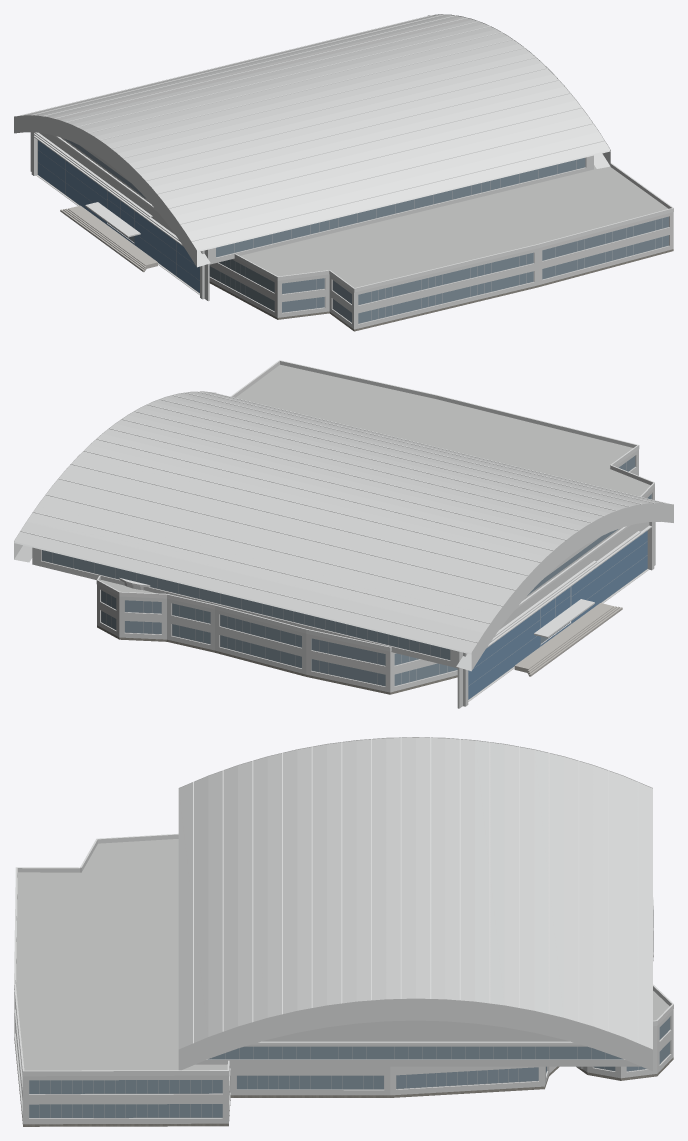
3 renders of one model, top to bottom at view 1: azimuth 30°, elevation 25°; view 2: azimuth 150°, elevation 25°; view 3: azimuth 270°, elevation 25°, orthographic. The views are drawn at different scales.
Parts seen in each view (by area): view 1: gym__roofpanel, gym__roof, gym__ribbonglass, gym__panel, gym__trim, gym__glass, gym__cap, gym__mullion, gym__louvre, gym__soffit, gym__threshold-front, gym__plinth (+2 smaller); view 2: gym__roofpanel, gym__roof, gym__trim, gym__panel, gym__ribbonglass, gym__glass, gym__cap, gym__mullion, gym__soffit, gym__threshold-front, gym__louvre, gym__plinth (+1 smaller); view 3: gym__roofpanel, gym__roof, gym__panel, gym__trim, gym__ribbonglass, gym__cap, gym__mullion, gym__plinth, gym__foundation.
Boxes of the visible parts, x1,y1,x2,y2 form: gym__roofpanel: [19, 14, 610, 250]; gym__roof: [240, 165, 668, 287]; gym__ribbonglass: [65, 139, 668, 323]; gym__panel: [30, 132, 673, 329]; gym__trim: [14, 14, 610, 266]; gym__glass: [38, 140, 199, 292]; gym__cap: [85, 163, 673, 292]; gym__mullion: [37, 140, 669, 323]; gym__louvre: [33, 132, 183, 246]; gym__soffit: [197, 150, 610, 267]; gym__threshold-front: [68, 205, 157, 268]; gym__plinth: [209, 249, 673, 330]; gym__roofpanel: [14, 392, 669, 652]; gym__roof: [100, 364, 650, 593]; gym__trim: [14, 391, 673, 670]; gym__panel: [32, 449, 655, 708]; gym__ribbonglass: [42, 456, 651, 686]; gym__glass: [468, 531, 647, 699]; gym__cap: [96, 360, 654, 651]; gym__mullion: [41, 462, 651, 699]; gym__soffit: [14, 541, 471, 671]; gym__threshold-front: [514, 603, 614, 672]; gym__louvre: [487, 525, 651, 647]; gym__plinth: [97, 625, 457, 694]; gym__roofpanel: [178, 737, 652, 1049]; gym__roof: [16, 839, 669, 1070]; gym__panel: [14, 873, 673, 1124]; gym__trim: [178, 737, 652, 1071]; gym__ribbonglass: [29, 1017, 669, 1117]; gym__cap: [14, 833, 673, 1076]; gym__mullion: [29, 1017, 670, 1118]; gym__plinth: [14, 956, 673, 1126]; gym__foundation: [23, 1059, 673, 1126].
Bounding box in the file's own units: 106 × 23.58 × 112.
15 materials, 3 textured.
